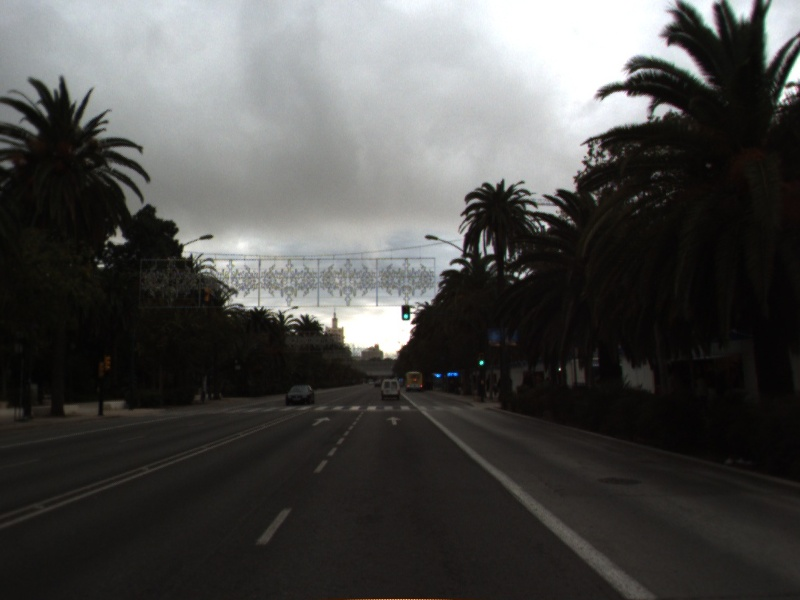STRAIGHT: (310, 414, 333, 428), (385, 415, 403, 427)
